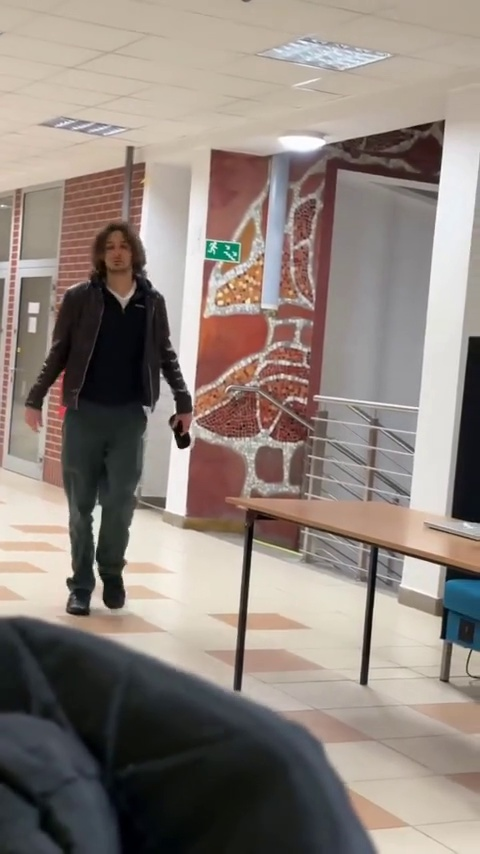no vest: (40, 222, 196, 610)
